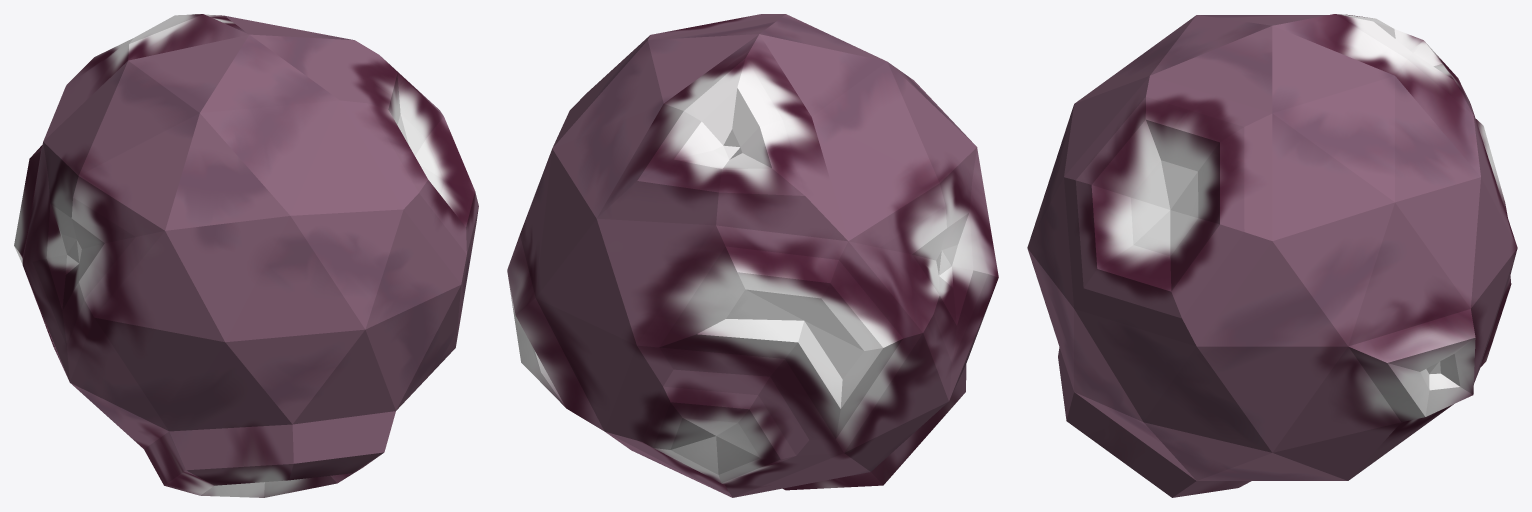
Rendered from Asteroid.gltf.
The picture shows the model from 3 angles, left to right: view 1: azimuth 30°, elevation 25°; view 2: azimuth 150°, elevation 25°; view 3: azimuth 270°, elevation 25°; orthographic projection. The views are drawn at different scales.
Parts seen in each view (by area): view 1: Asteroid; view 2: Asteroid; view 3: Asteroid.
Boxes of the visible parts, x1=… form: Asteroid: x1=14, y1=14, x2=478, y2=497; Asteroid: x1=507, y1=14, x2=998, y2=497; Asteroid: x1=1027, y1=14, x2=1517, y2=497.
Size of the model in its own units: 1.9 by 2.12 by 2.
1 material, 1 textured.
